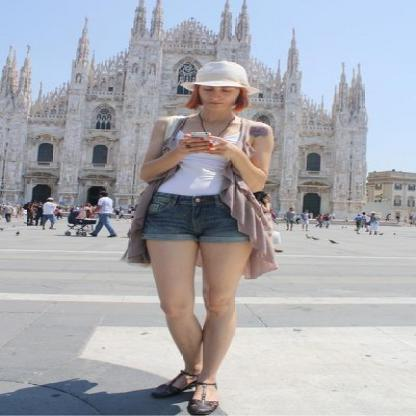hat: (187, 61, 248, 90)
shirt: (122, 116, 276, 274)
shoe: (152, 368, 227, 416)
shorts: (150, 194, 249, 249)
